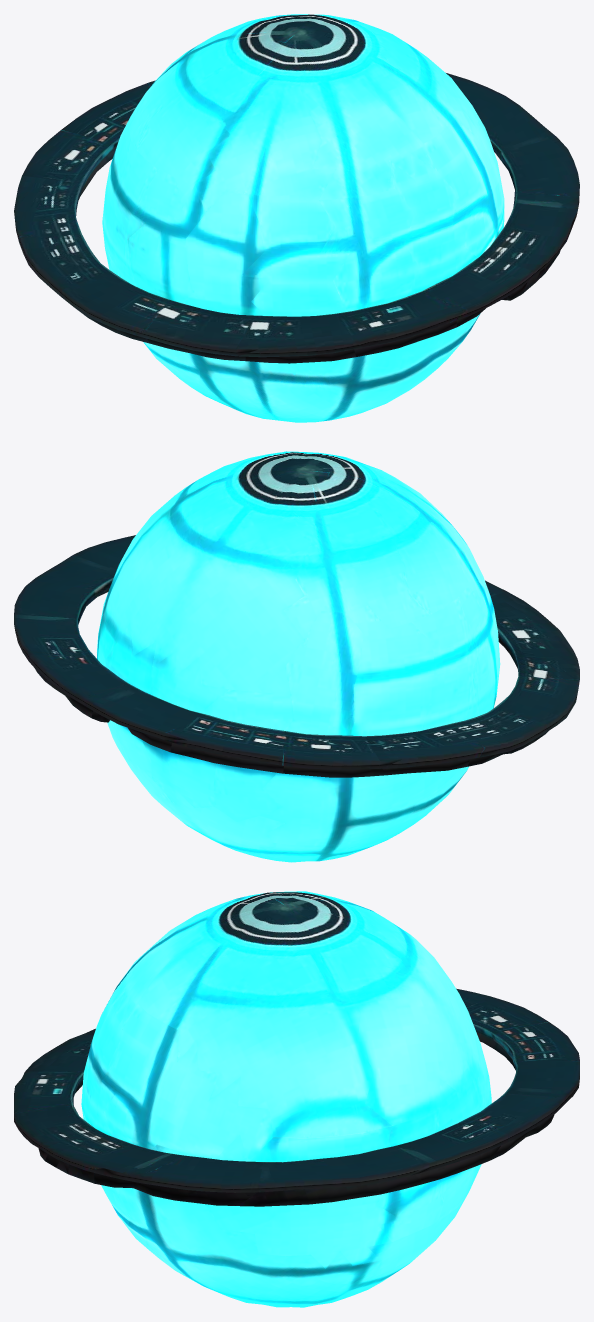
The model's file is 019fde7b-4d3f-70f4-b687-6ac367eaa9db.orig.glb.
The picture shows the model from 3 angles, top to bottom: view 1: azimuth 30°, elevation 25°; view 2: azimuth 150°, elevation 25°; view 3: azimuth 270°, elevation 25°; orthographic projection.
Visible parts, largest first — view 1: mesh_node; view 2: mesh_node; view 3: mesh_node.
Boxes of the visible parts, x1=… form: mesh_node: x1=14, y1=14, x2=579, y2=422; mesh_node: x1=14, y1=451, x2=579, y2=862; mesh_node: x1=14, y1=891, x2=579, y2=1307.
Bounding box in the file's own units: 1 × 0.7402 × 1.
Materials: 1 (1 with a texture image).
